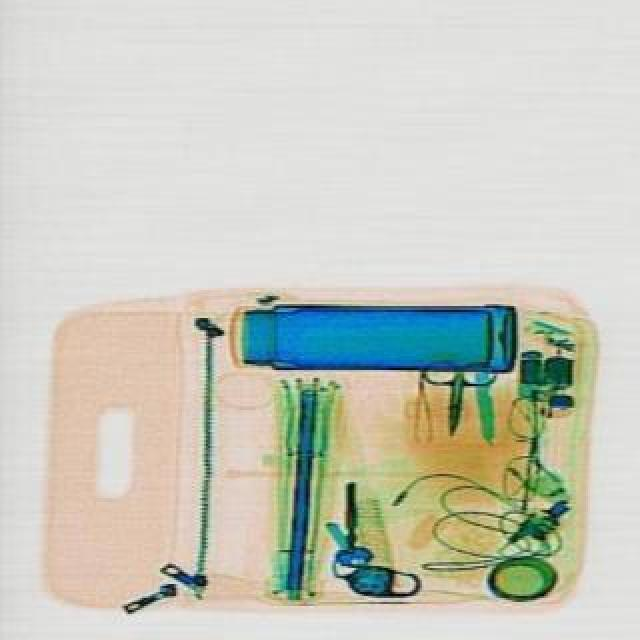pliers: (410, 356, 494, 440)
